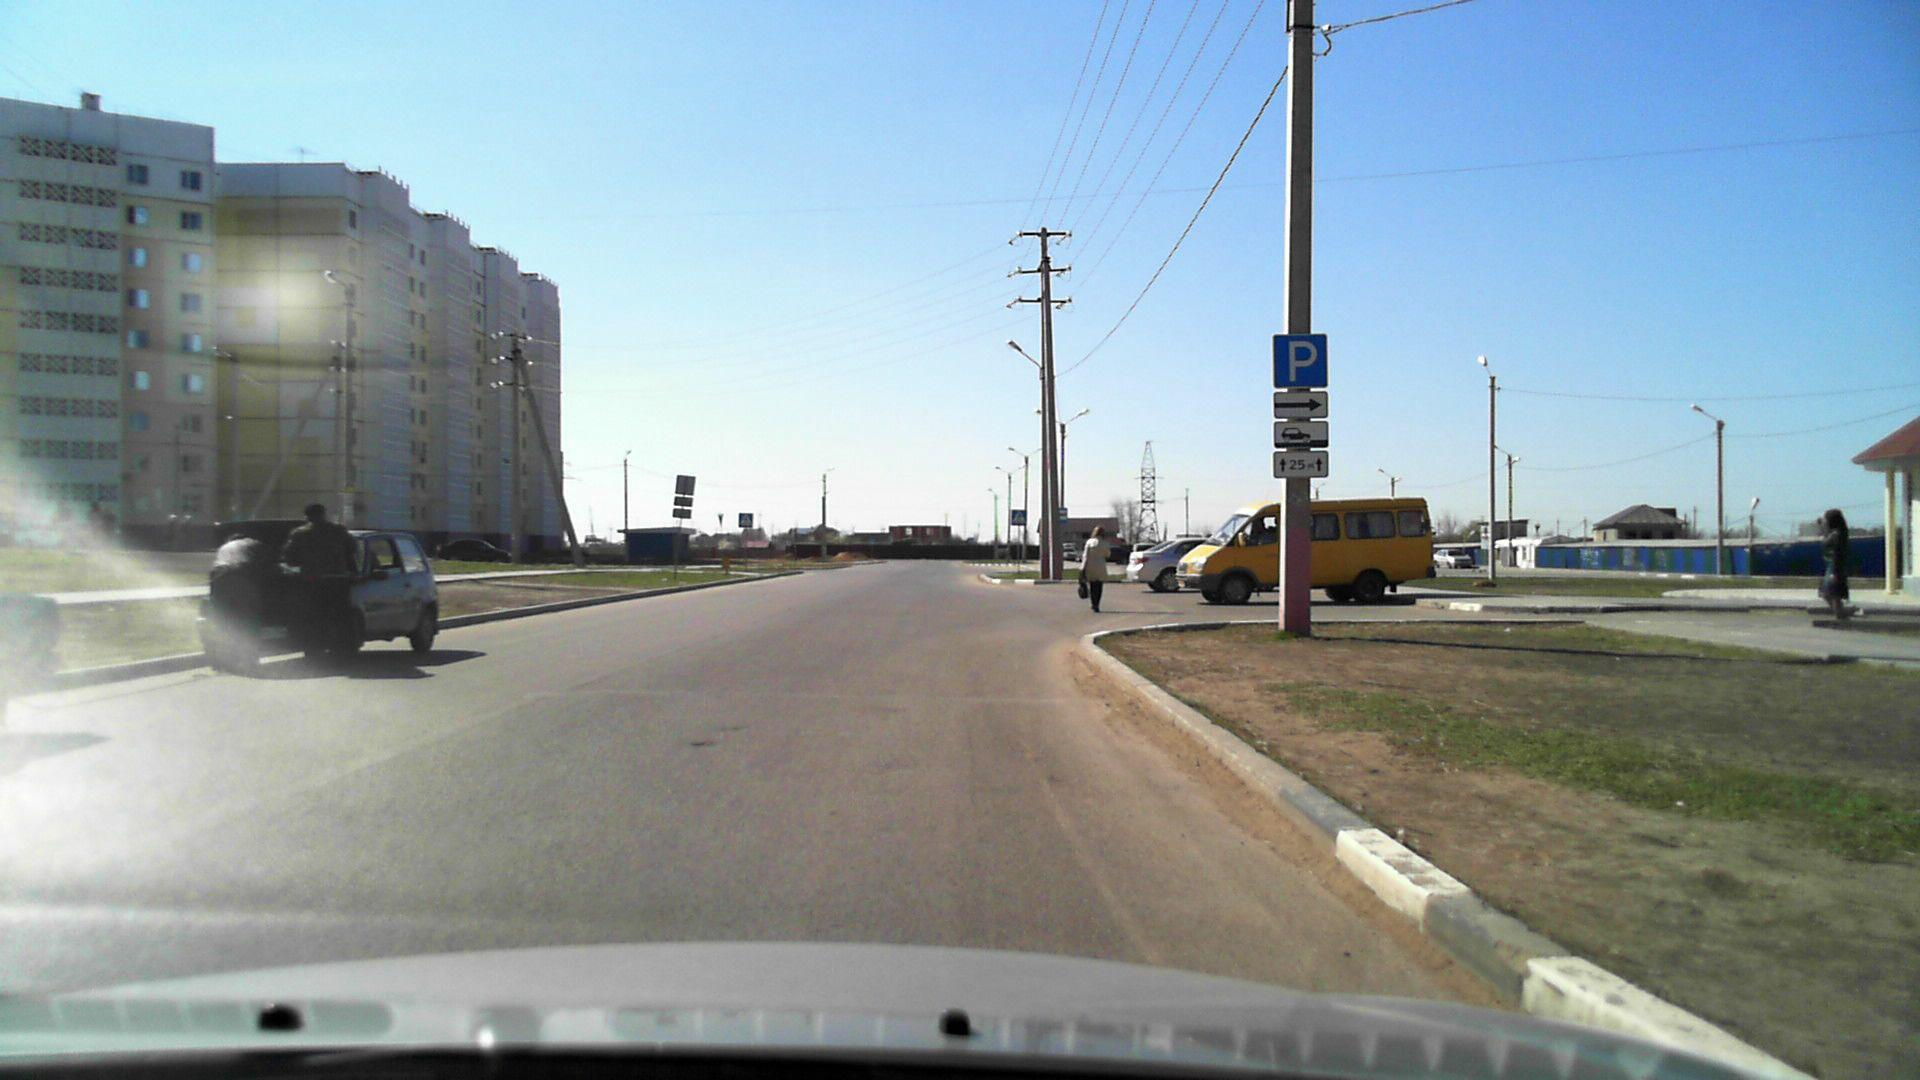5_16: (1055, 508, 1068, 521)
5_19_1: (1011, 508, 1027, 525)
5_19_2: (737, 511, 754, 527)
6_4: (1273, 334, 1328, 388)
8_2_1: (1271, 452, 1329, 480)
8_3_1: (1272, 389, 1331, 419)
8_6_5: (1275, 421, 1328, 446)
